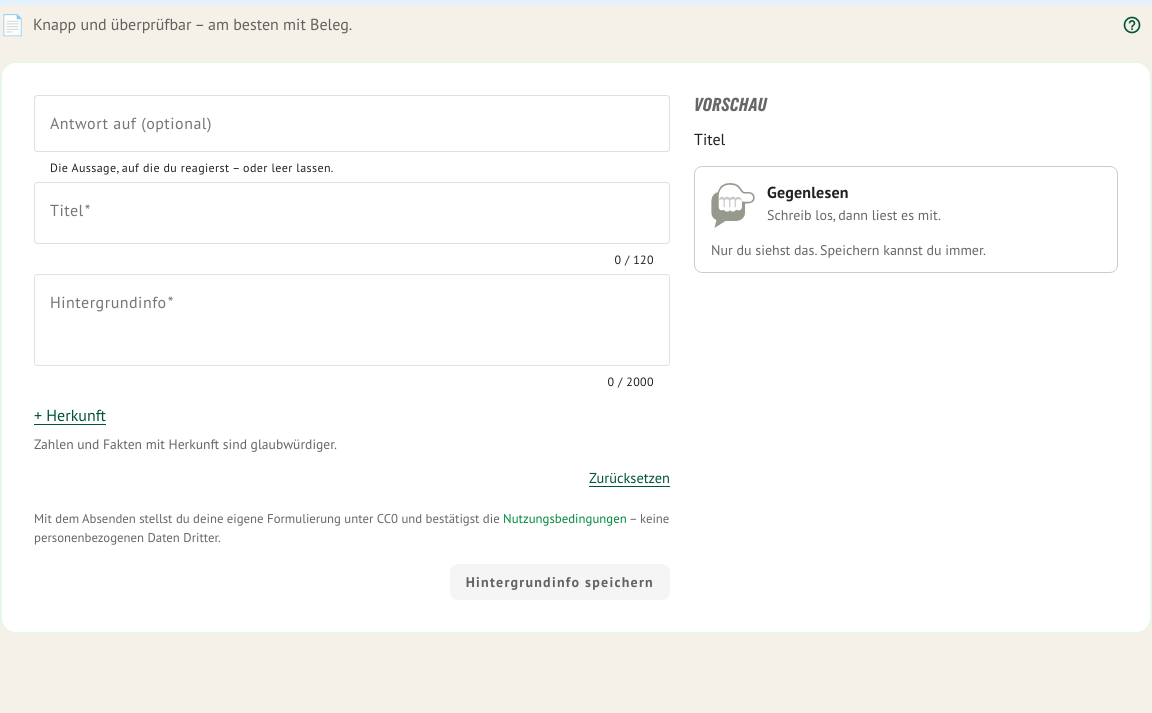
it: AddGenerictextComponent › Aufbau › zeigt die Qualitaetszeile mit dem ?, anfangs zugeklappt
The width and height of the screenshot is (1152, 713).
Check: the text with class "hilfe-zeile" reads "Knapp und überprüfbar – am besten mit Beleg.", box [33,16,352,34]
Click the button with class "erklaerung-umschalter" at [1132, 25], box [1112,5,1151,45]
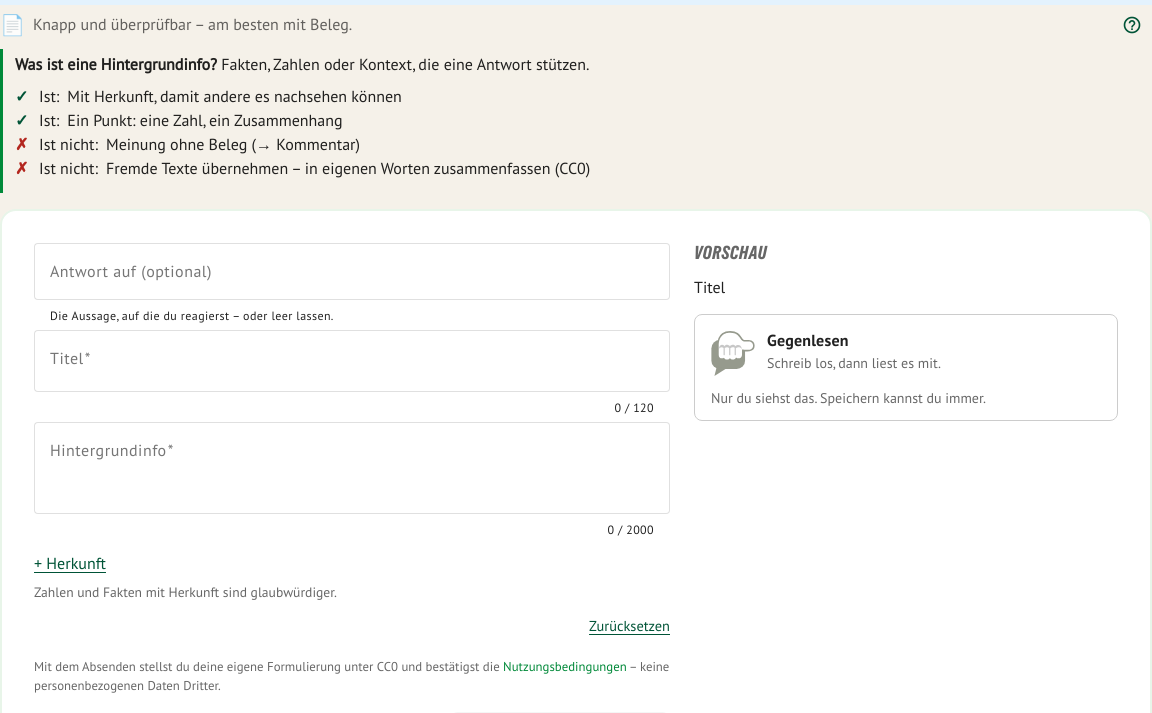
Check: the element with class "hilfe-panel" shows "Meinung ohne Beleg (→ Kommentar)", box [106,136,360,154]
